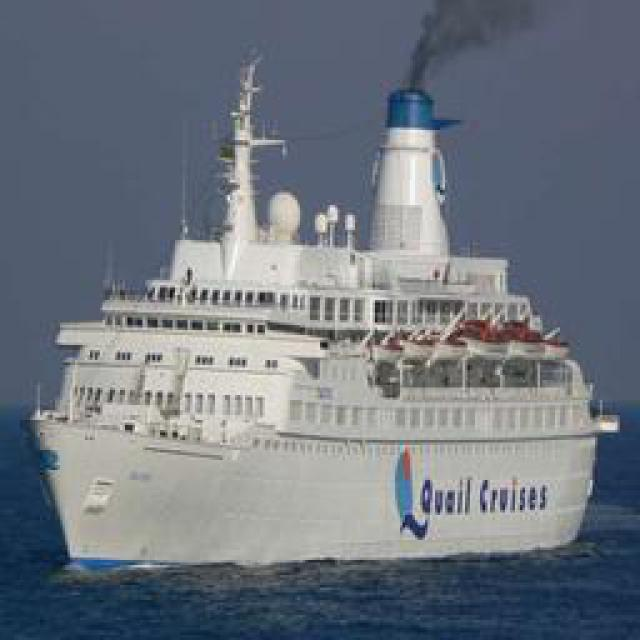Ship: (34, 71, 607, 576)
